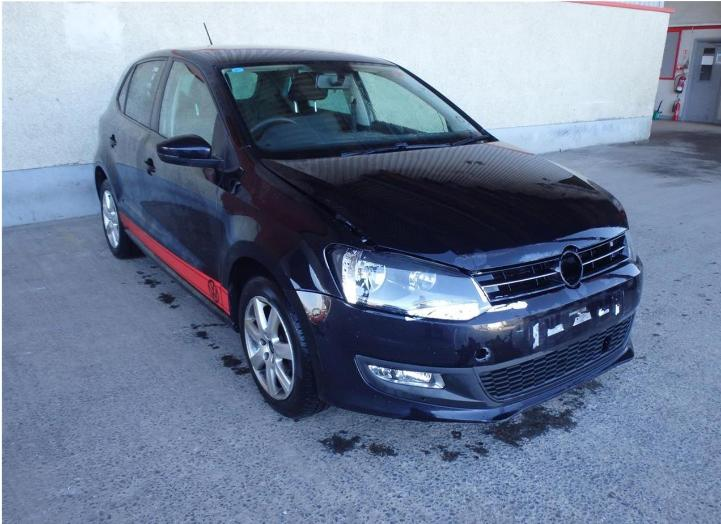Back-door: (107, 57, 171, 241)
Back-wheel: (99, 179, 132, 258)
Back-window: (126, 61, 167, 128), (119, 70, 132, 114)
Fender: (216, 148, 377, 318)
Front-bumper: (282, 253, 643, 424)
Front-door: (142, 57, 239, 311)
Front-wheel: (238, 274, 330, 420)
Front-window: (159, 59, 217, 147)
Grille: (472, 234, 628, 304)
Headlight: (325, 245, 491, 321), (625, 230, 636, 261)
Hood: (260, 141, 628, 271)
Mirror: (157, 134, 222, 168)
Quarter-panel: (93, 105, 125, 227)
Rocker-panel: (124, 227, 240, 334)
Roof: (134, 44, 395, 70)
Windshield: (215, 60, 483, 159)
